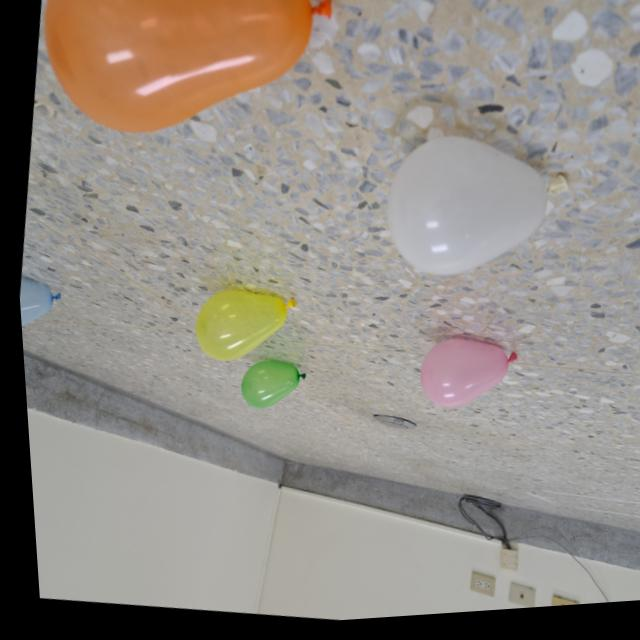other: (27, 0, 342, 167), (369, 127, 577, 303), (184, 283, 297, 376), (407, 335, 517, 428), (231, 358, 305, 420), (15, 275, 62, 335)
